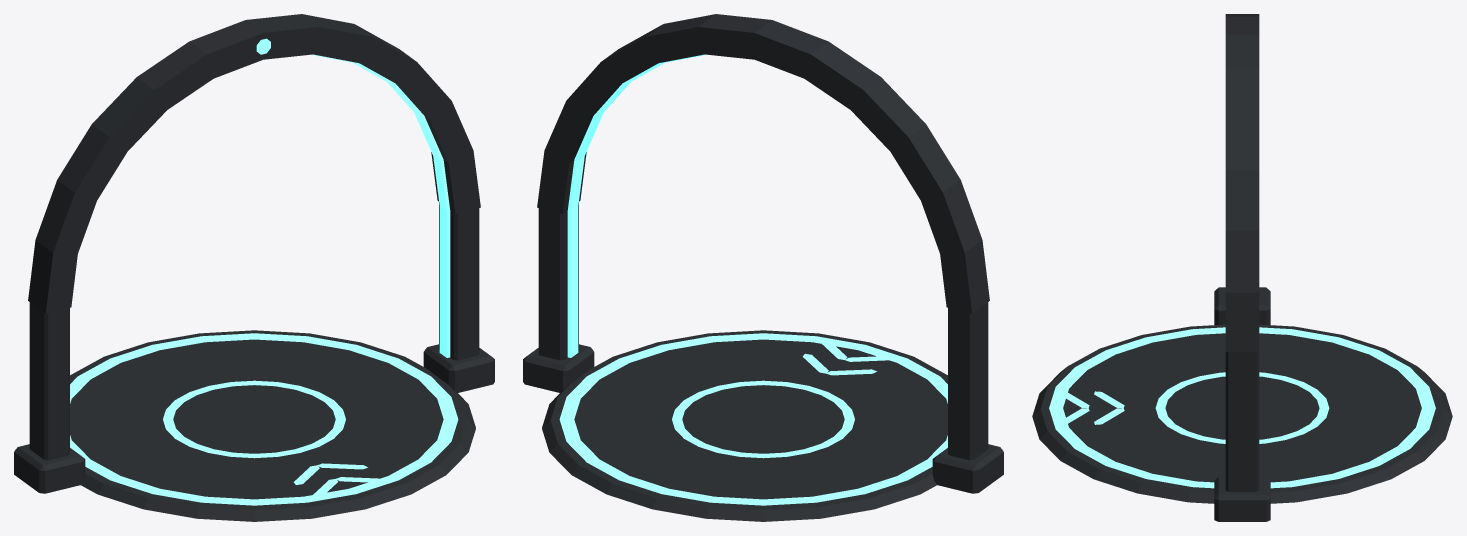
Rendered from portal.glb.
3 renders of one model, left to right at view 1: azimuth 30°, elevation 25°; view 2: azimuth 150°, elevation 25°; view 3: azimuth 270°, elevation 25°, orthographic. The views are drawn at different scales.
Parts seen in each view (by area): view 1: Mesh; view 2: Mesh; view 3: Mesh.
Part boxes in pixels (left/top/right/bottom): Mesh: left=14, top=14, right=494, bottom=521; Mesh: left=523, top=14, right=1003, bottom=521; Mesh: left=1032, top=14, right=1452, bottom=521.
Bounding box in the file's own units: 3.56 × 3 × 3.
